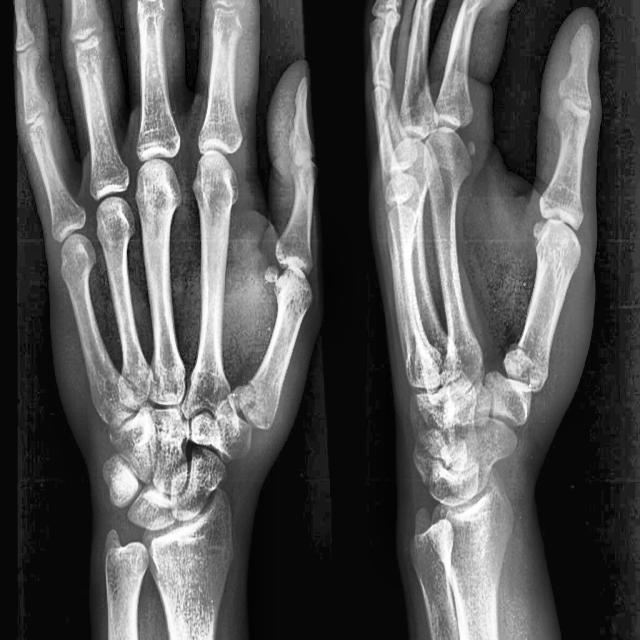fracture: (226, 380, 258, 416), (511, 341, 530, 364)
